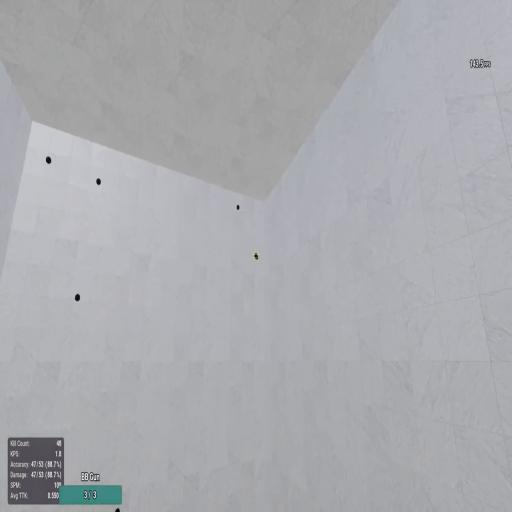Crosshair: (254, 251, 258, 261)
Target: (45, 155, 52, 165), (74, 292, 80, 302), (96, 177, 101, 186), (115, 506, 121, 511), (236, 203, 240, 210), (255, 255, 259, 260)
